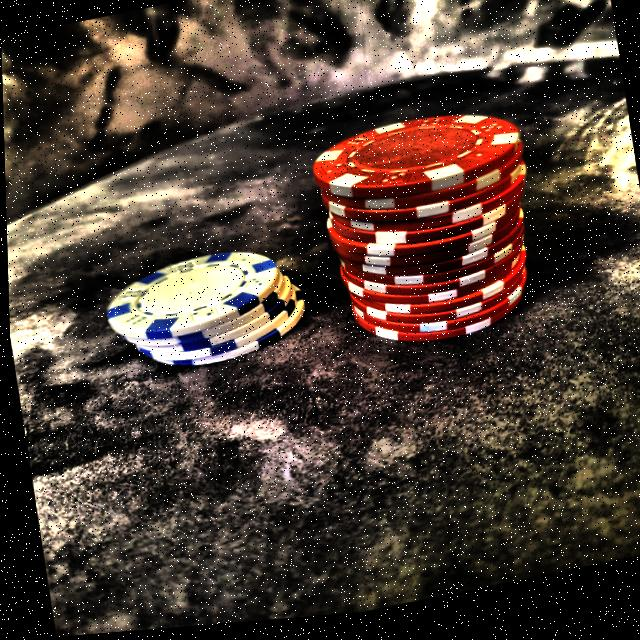Chip: (298, 67, 564, 390), (89, 219, 310, 394)
